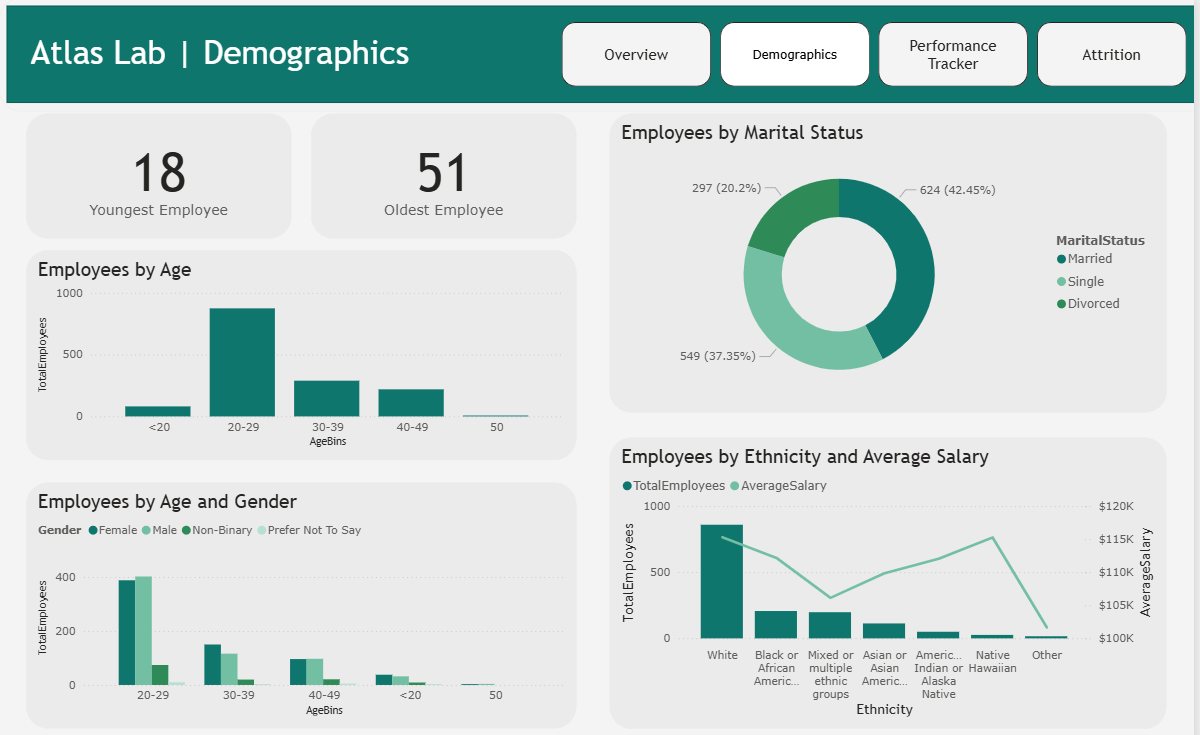

The page's visual inventory and layout, read from the dashboard file:
{"tool":"powerbi","page":{"name":"Demographics","canvas":[1350,850],"ordinal":1},"visuals":[{"type":"shape","box":[0,0,1379.7,128.1],"z":0},{"type":"card","fields":{"Values":["Max(DimEmployee.Age)"]},"box":[353.5,139,300,141.4],"z":0,"group":"g1"},{"type":"textbox","box":[31.2,28.1,454.7,110.9],"z":1000},{"type":"card","fields":{"Values":["Min(DimEmployee.Age)"]},"box":[31.7,139,300,141.4],"z":1000,"group":"g1"},{"type":"group","id":"g1","title":"Group 1","box":[31.7,139,1287.8,695.1],"z":2000},{"type":"clusteredColumnChart","title":"Employees by Age","fields":{"Y":["_Measures.TotalEmployees"],"Category":["DimEmployee.AgeBins"]},"box":[32.1,293.2,622.2,237],"z":2000,"group":"g1"},{"type":"pageNavigator","box":[636.1,27.9,706.6,73.8],"z":3000},{"type":"clusteredColumnChart","title":"Employees by Age and Gender","fields":{"Y":["_Measures.TotalEmployees"],"Category":["DimEmployee.AgeBins"],"Series":["DimEmployee.Gender"]},"box":[32.1,556.1,622.2,277.8],"z":3000,"group":"g1"},{"type":"donutChart","title":"Employees by Marital Status","fields":{"Category":["DimEmployee.MaritalStatus"],"Y":["_Measures.TotalEmployees"]},"box":[691.5,139,629.9,337.9],"z":4000,"group":"g1"},{"type":"lineClusteredColumnComboChart","title":"Employees by Ethnicity and Average Salary","fields":{"Category":["DimEmployee.Ethnicity"],"Y":["_Measures.TotalEmployees"],"Y2":["_Measures.AverageSalary"]},"box":[691.4,505.2,629.6,329.6],"z":5000,"group":"g1"}]}

Visuals, with their boxes in screenshot pixels (x1, y1, x2, y2), scaled from the page's 1350x850 canvas onto the 1200x735 screenshot:
shape: 0 0 1199 111
card - Max(DimEmployee.Age): 314 120 581 242
textbox: 28 24 432 120
card - Min(DimEmployee.Age): 28 120 295 242
"Group 1" group: 28 120 1173 721
"Employees by Age" clusteredColumnChart: 29 254 582 458
pageNavigator: 565 24 1194 88
"Employees by Age and Gender" clusteredColumnChart: 29 481 582 721
"Employees by Marital Status" donutChart: 615 120 1175 412
"Employees by Ethnicity and Average Salary" lineClusteredColumnComboChart: 615 437 1174 722
